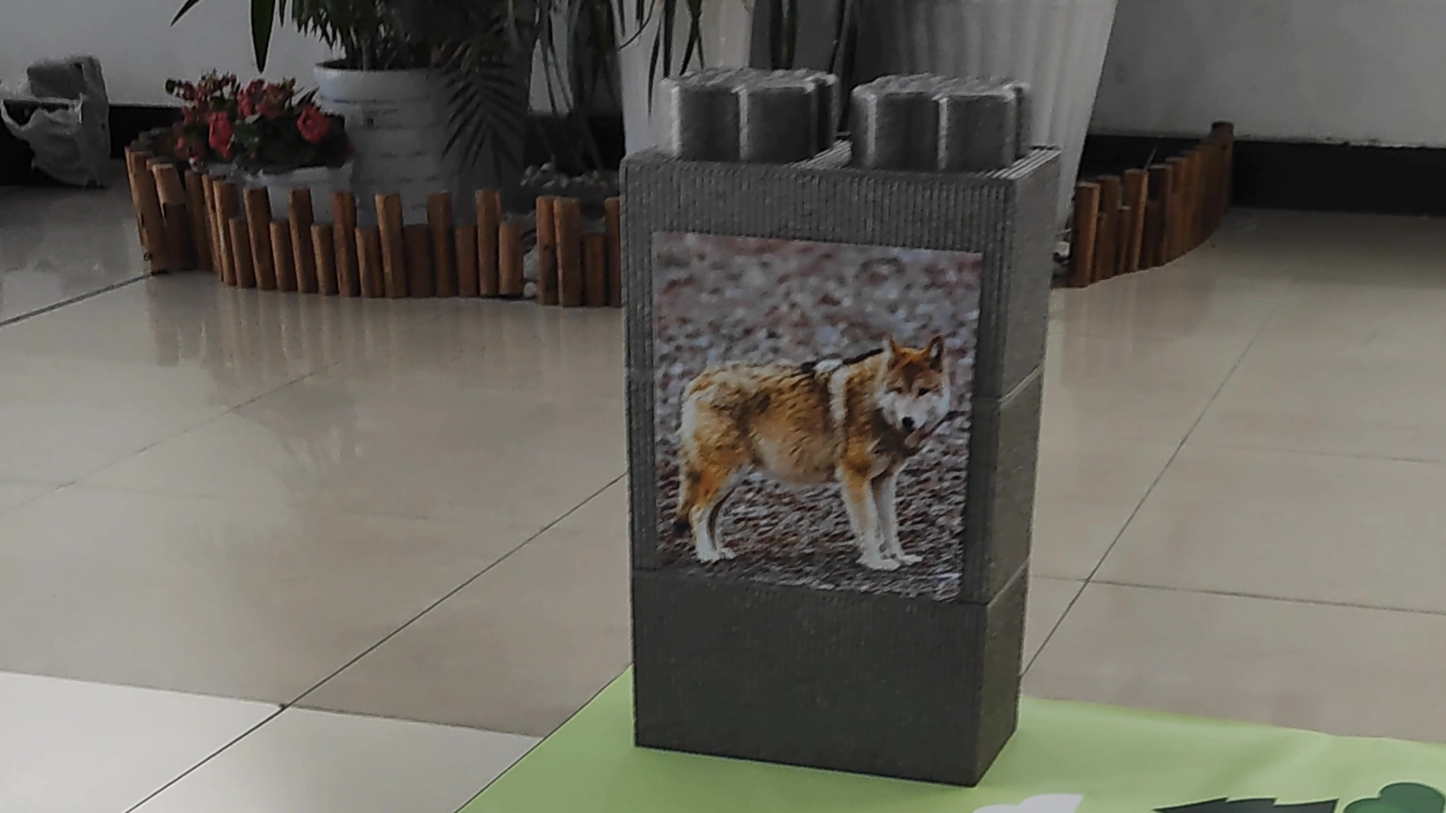wolf: (637, 234, 949, 577)
